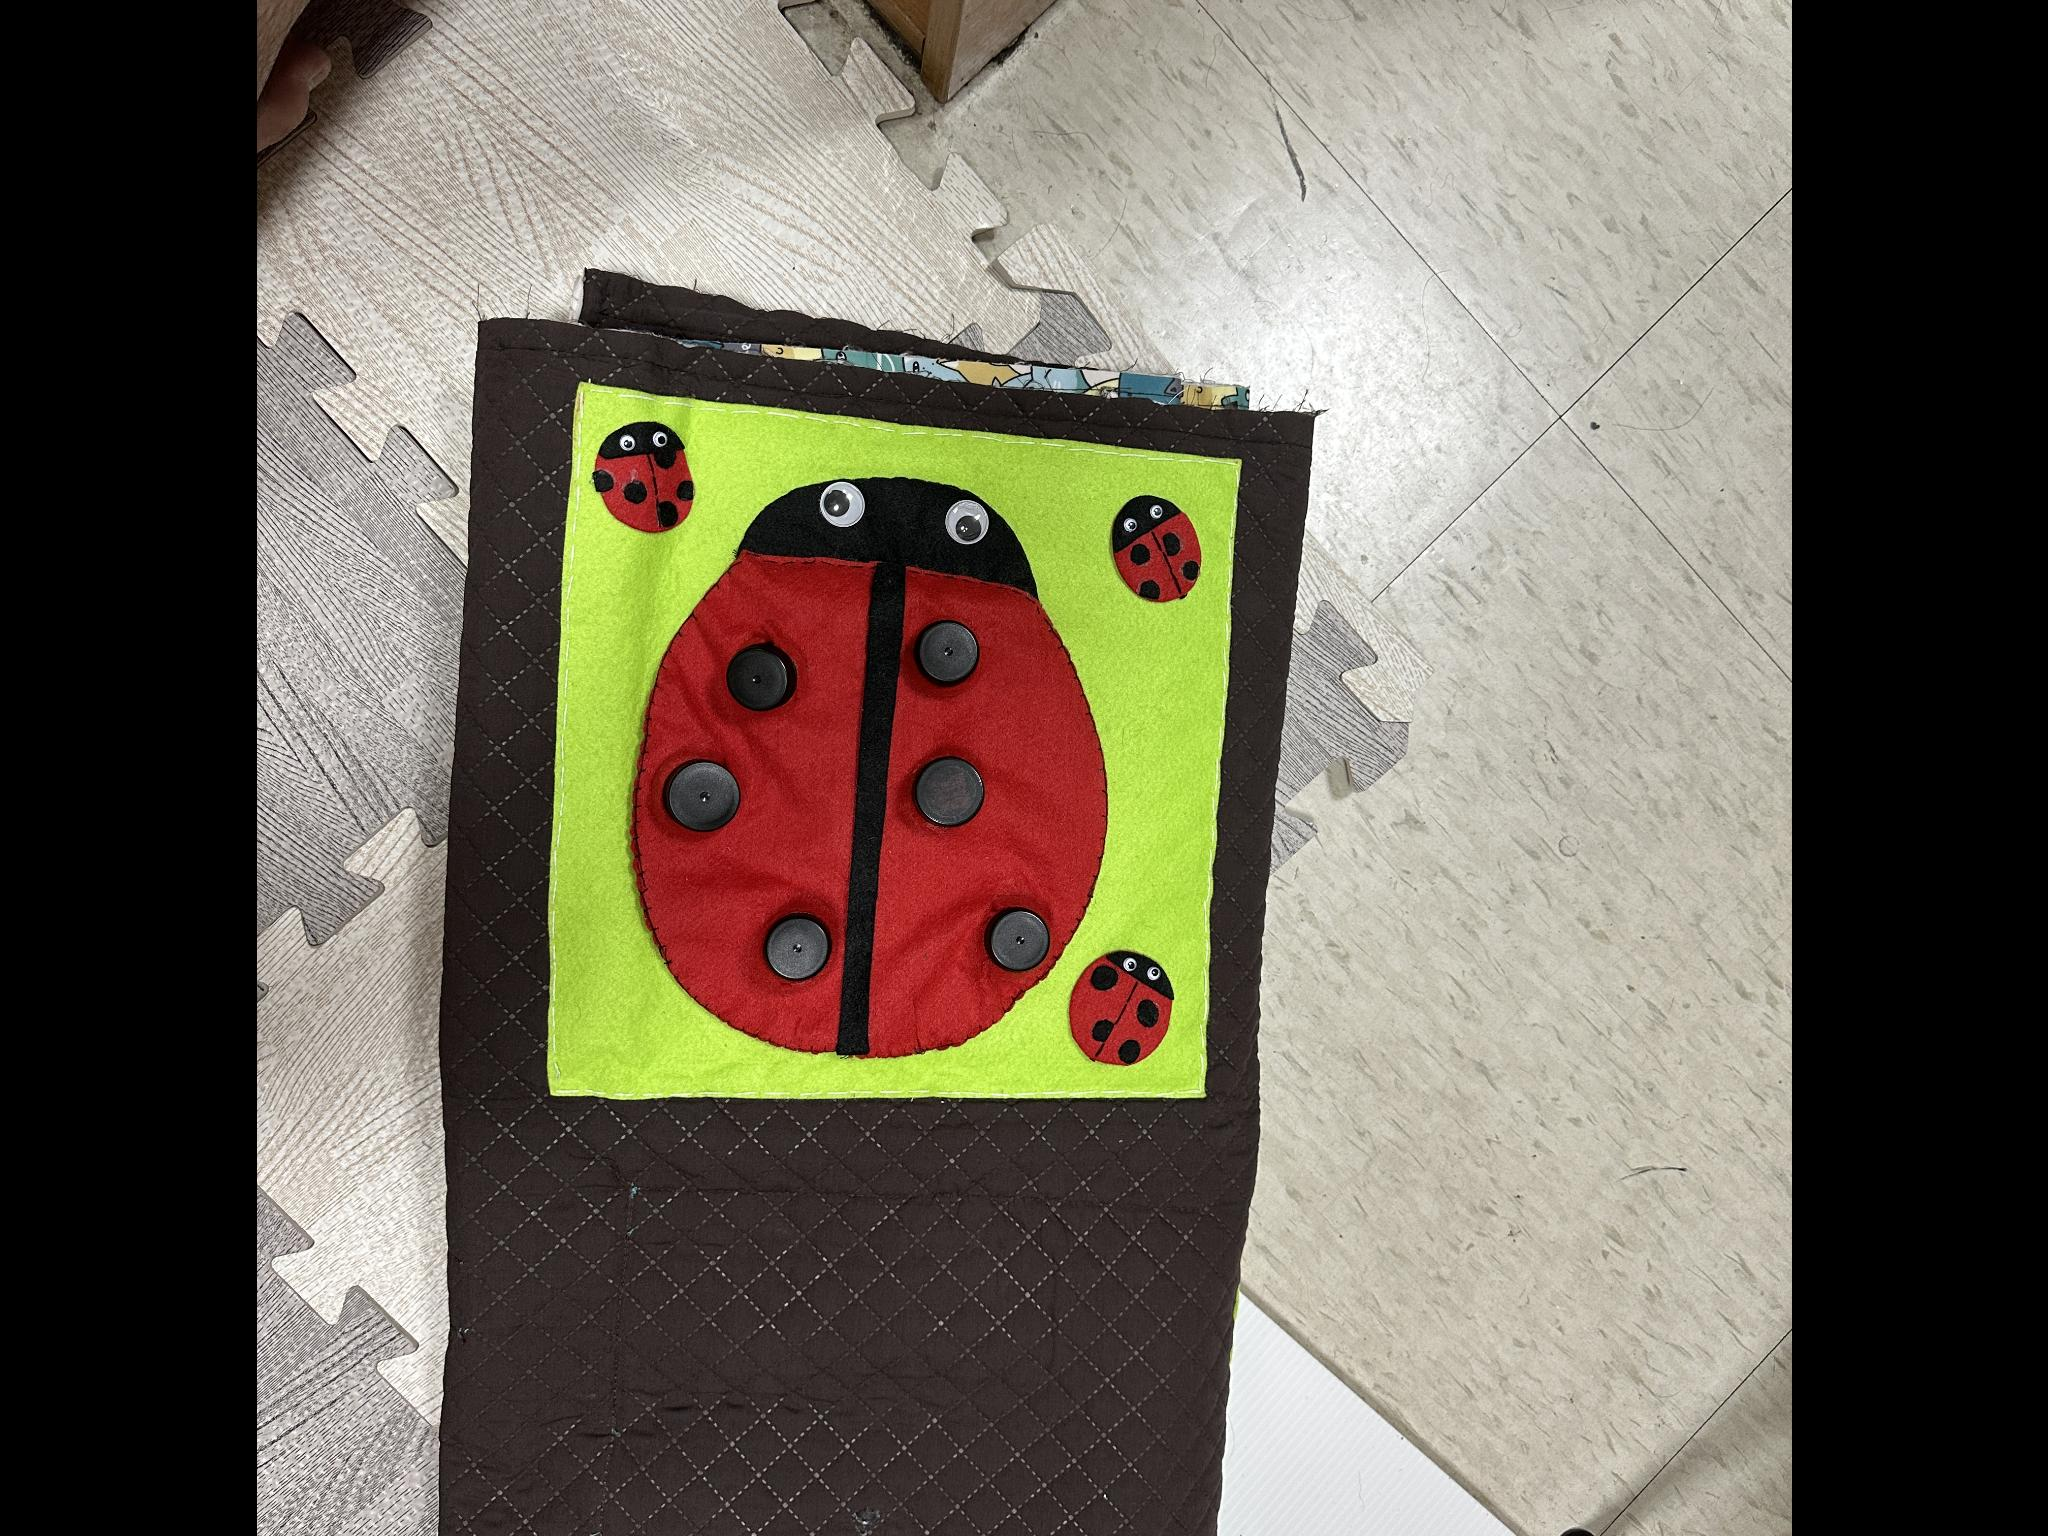cap_ok: (648, 744, 761, 850), (968, 895, 1064, 987), (713, 639, 811, 728), (753, 905, 842, 999), (905, 750, 990, 841), (908, 613, 989, 697)
